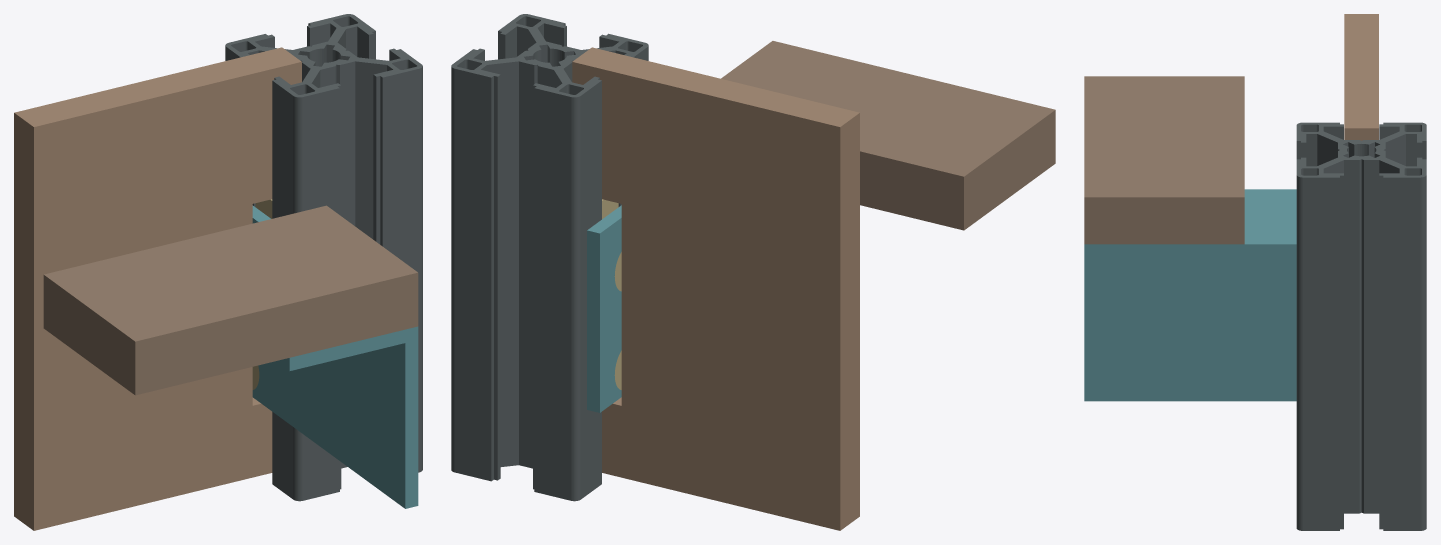
The model's file is shelf-at-rear-post.glb.
The picture shows the model from 3 angles, left to right: view 1: azimuth 30°, elevation 25°; view 2: azimuth 150°, elevation 25°; view 3: azimuth 270°, elevation 25°; orthographic projection. The views are drawn at different scales.
Visible parts, largest first — view 1: Back-infill-8, Shelf-Right-1, Post-966-470, Angle-Outer-Right-1; view 2: Back-infill-8, Post-966-470, Shelf-Right-1, Angle-Outer-Right-1; view 3: Post-966-470, Angle-Outer-Right-1, Shelf-Right-1, Back-infill-8.
Boxes of the visible parts, x1,y1,x2,y2 form: Back-infill-8: (14,47,301,530); Shelf-Right-1: (43,205,418,395); Post-966-470: (225,14,422,501); Angle-Outer-Right-1: (252,205,418,508); Back-infill-8: (572,47,859,530); Post-966-470: (451,14,648,501); Shelf-Right-1: (721,41,1055,230); Angle-Outer-Right-1: (587,205,621,412); Post-966-470: (1296,122,1426,530); Angle-Outer-Right-1: (1084,189,1296,401); Shelf-Right-1: (1084,76,1244,244); Back-infill-8: (1344,14,1378,140).
Size of the model in its own units: 0.096 by 0.092 by 0.079.
